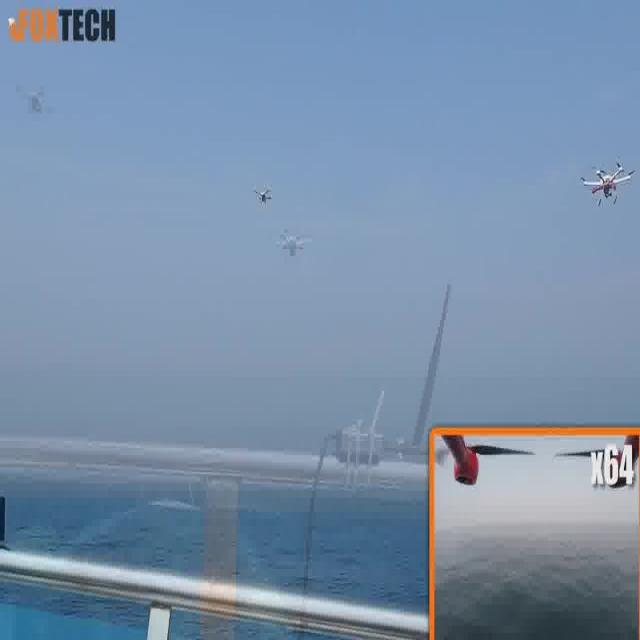drone: (577, 156, 636, 210), (273, 226, 315, 262), (250, 178, 276, 208)
